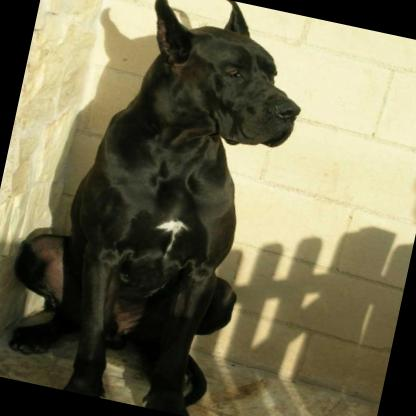Great_Dane: (0, 0, 328, 416)
